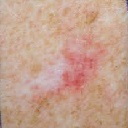Carcinoma: (24, 51, 92, 100)
